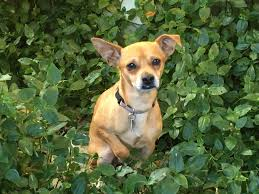Chihuahua: (77, 24, 183, 176)
